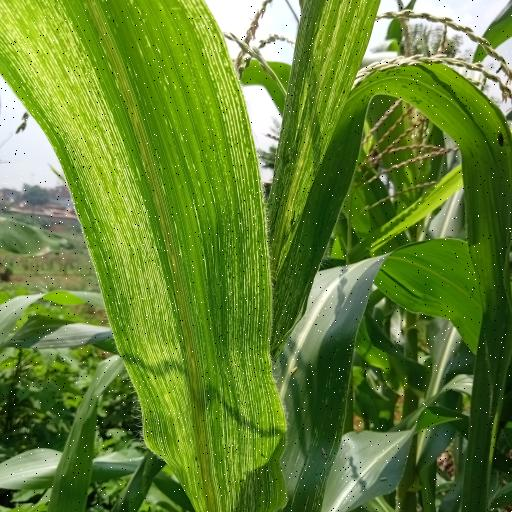Corn_Streak: (6, 0, 308, 511)
